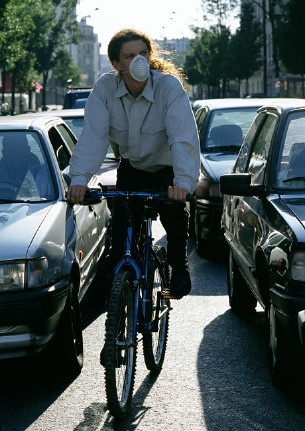Mask: (120, 46, 156, 84)
